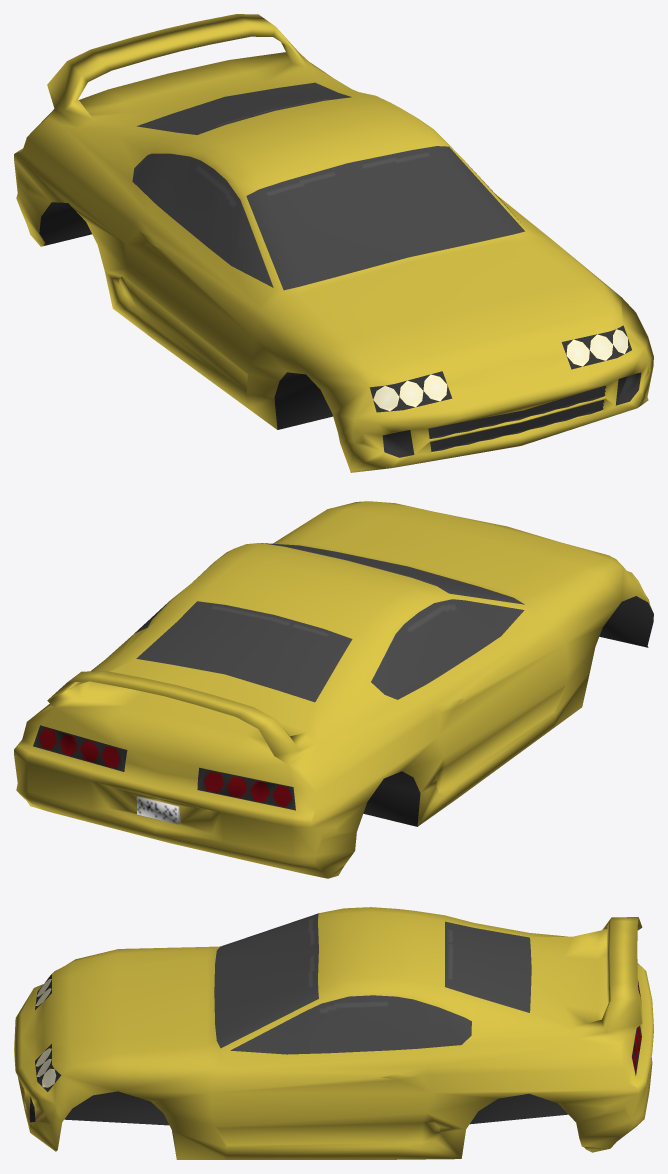
File: toyota supra.fbx
The picture shows the model from 3 angles, top to bottom: view 1: azimuth 30°, elevation 25°; view 2: azimuth 150°, elevation 25°; view 3: azimuth 270°, elevation 25°; orthographic projection. The views are drawn at different scales.
Visible parts, largest first — view 1: toyota supra; view 2: toyota supra; view 3: toyota supra.
Boxes of the visible parts, x1,y1,x2,y2 form: toyota supra: (14, 14, 653, 472); toyota supra: (14, 501, 653, 878); toyota supra: (14, 907, 653, 1159).
Size of the model in its own units: 2.92 by 1.57 by 5.89.
